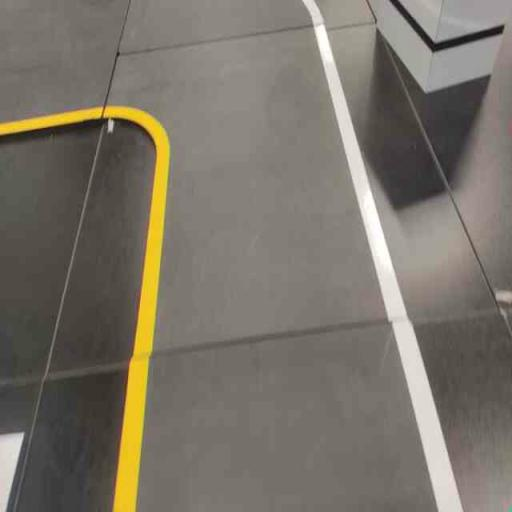straight: (98, 181, 469, 480)
